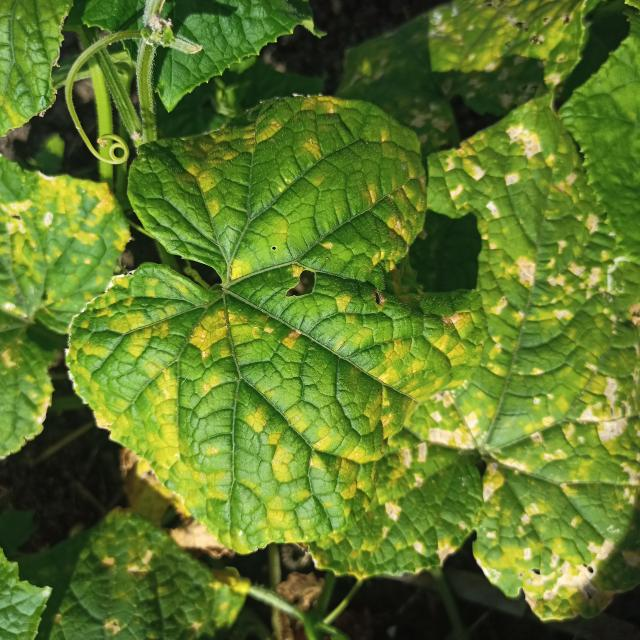disease_cucumber: (73, 96, 465, 547), (403, 112, 640, 618), (0, 160, 136, 308)
